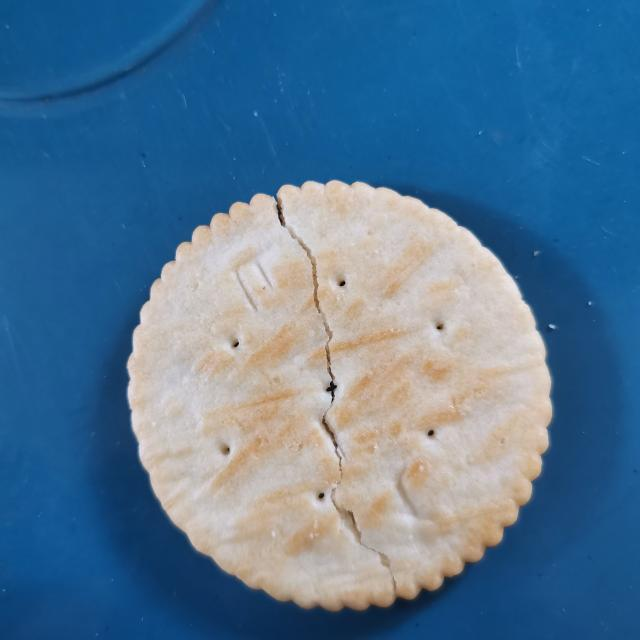Fracture: (242, 176, 429, 612)
